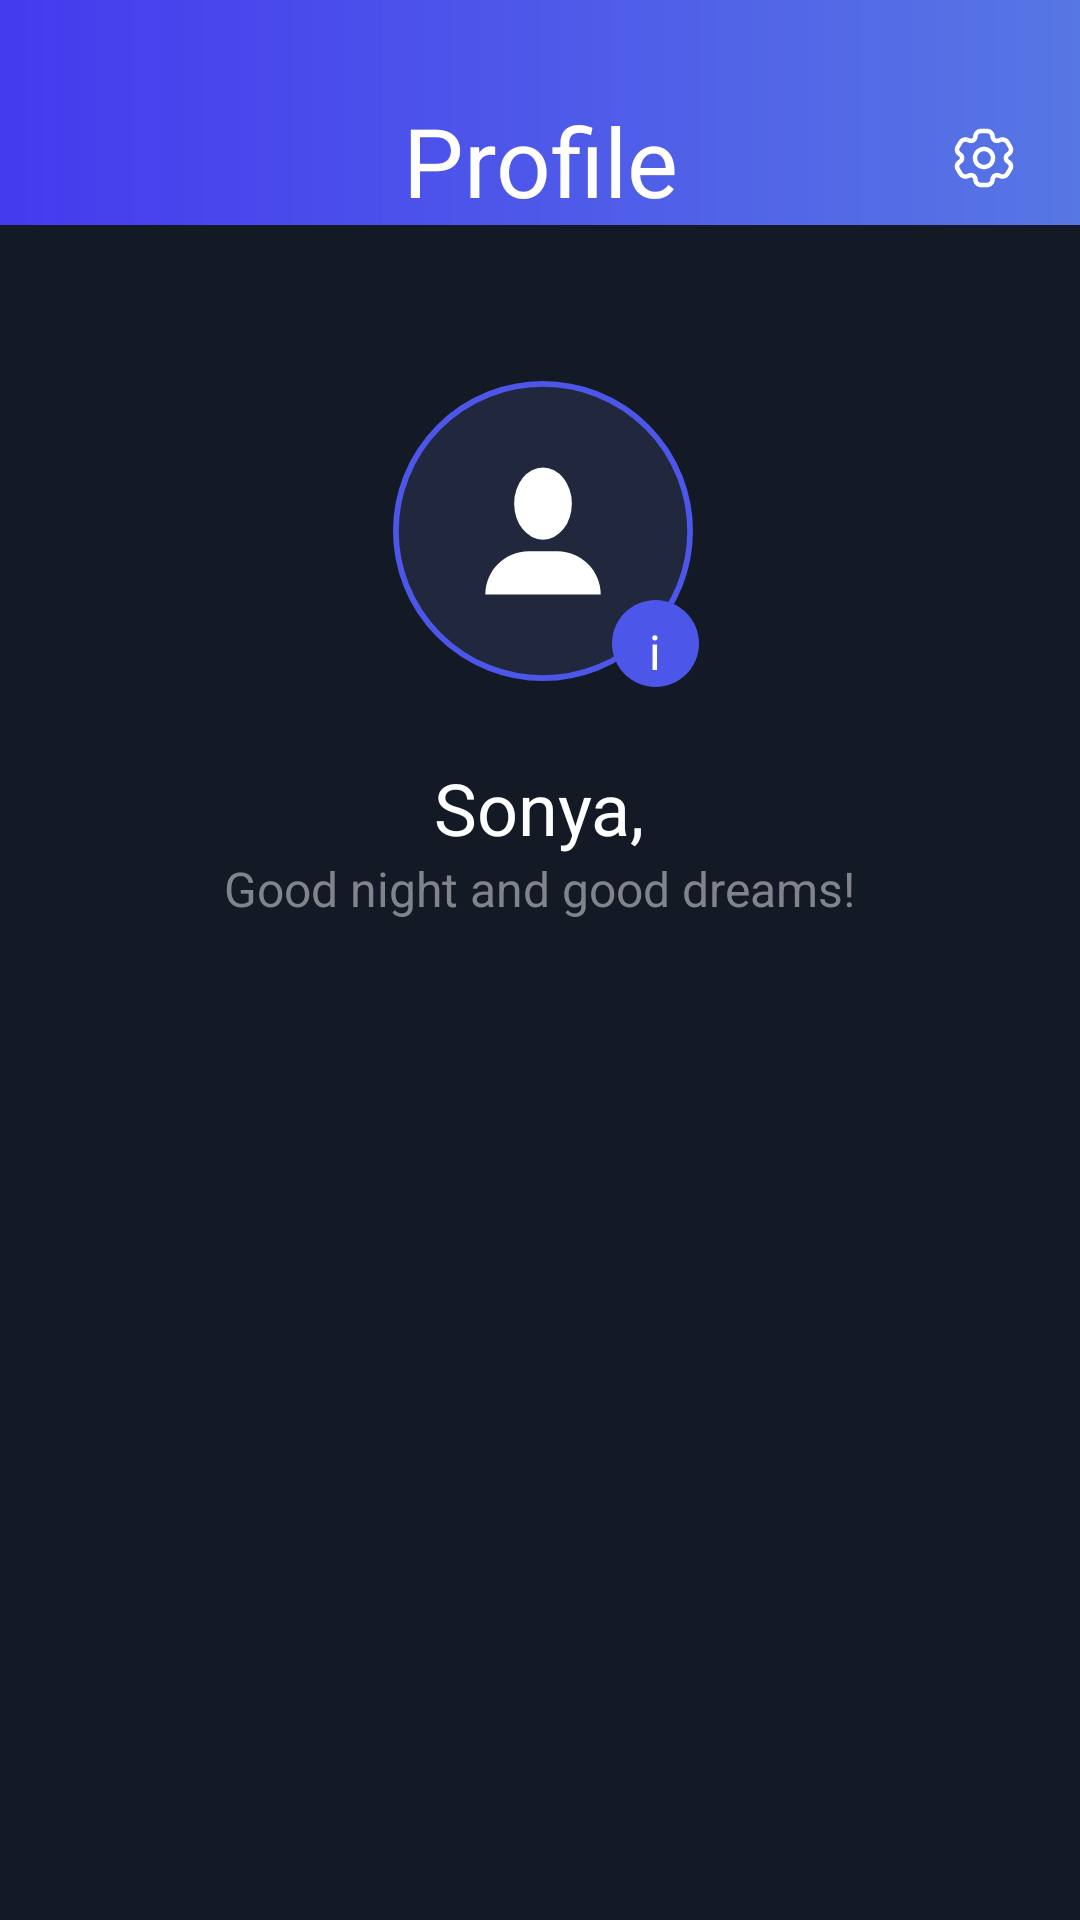

Icons on this 1080px x 1920px Android screen, each with its box as (x1=x1, y1=y1, x2=x2, y2=y2):
setting: (x1=954, y1=128, x2=1014, y2=188)
